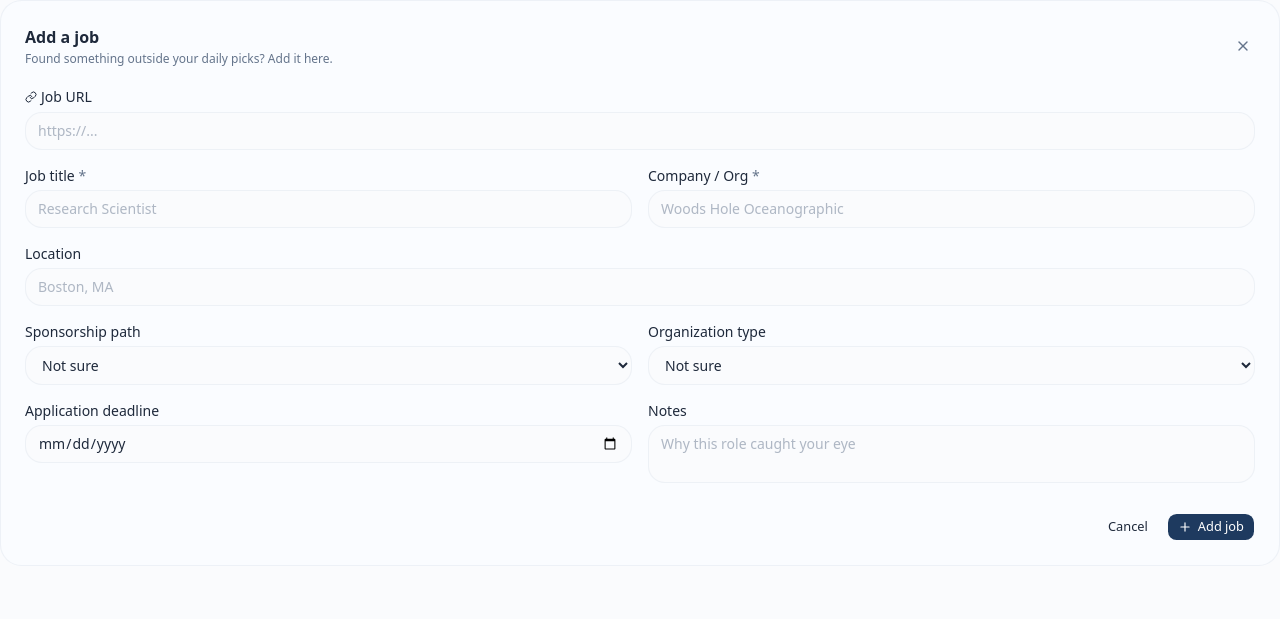
AddJobForm › shows error on server failure
Type "Test" into the field labelled "Job title *" at x=328, y=209, box [25, 190, 632, 228]
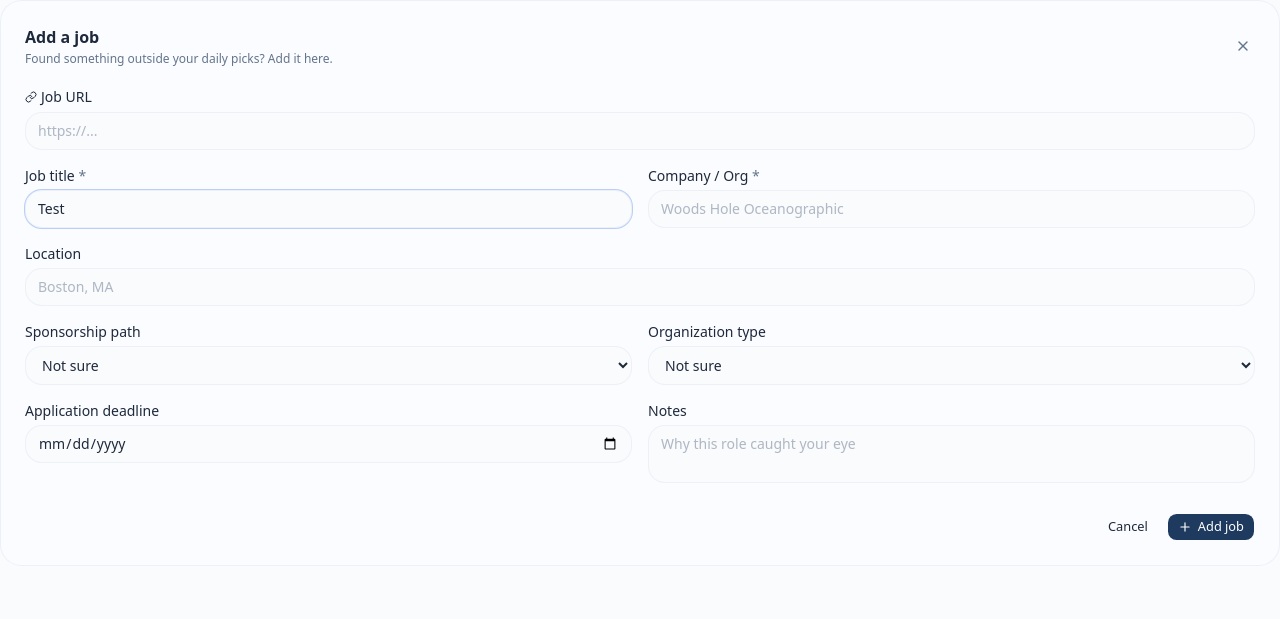
Type "Test Co" into the field labelled "Company / Org *" at x=952, y=209, box [648, 190, 1255, 228]
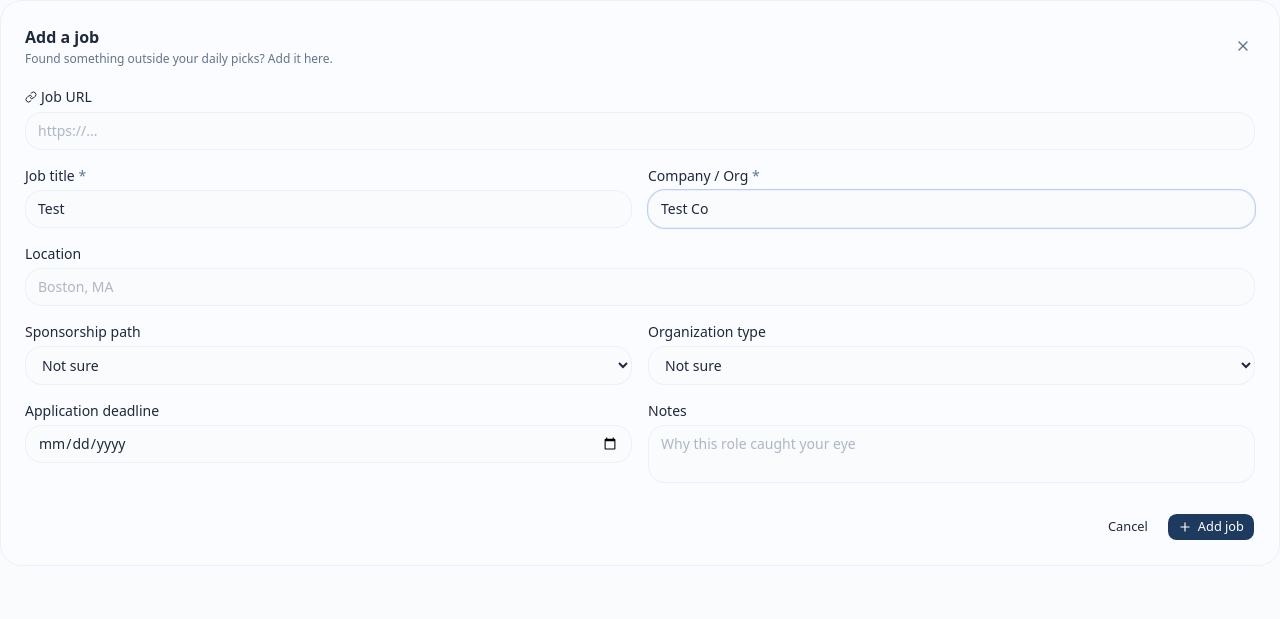
Click the button "Add job" at x=1211, y=527, box [1167, 513, 1255, 541]
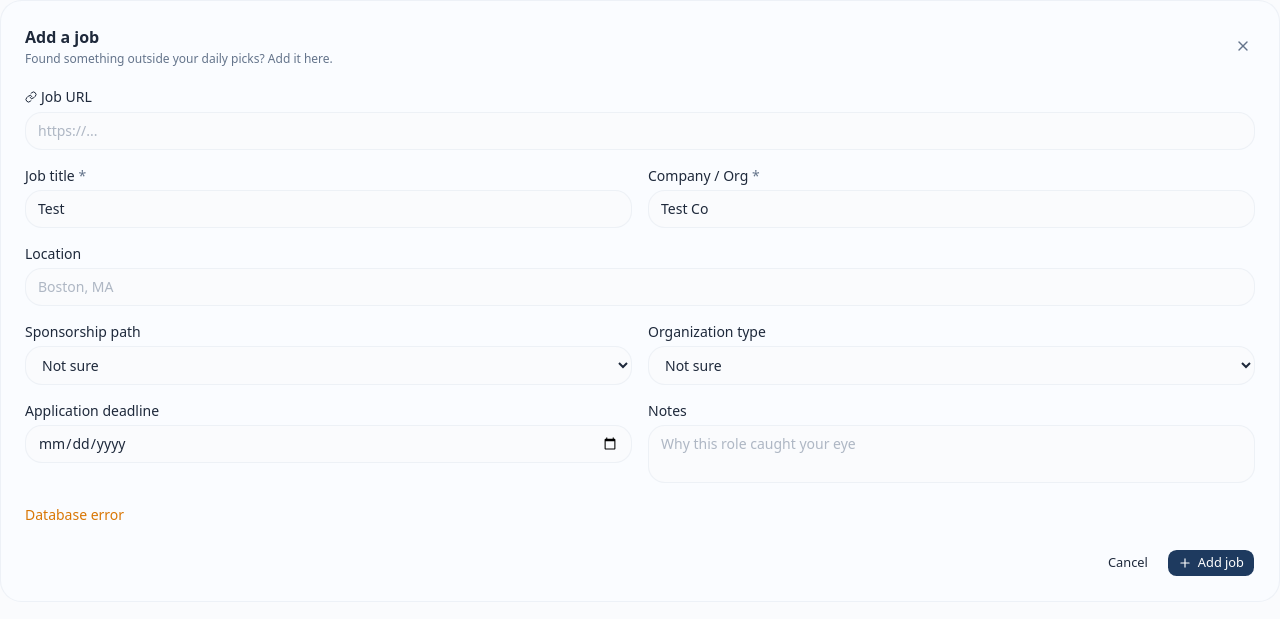
Check: the text "Database error" is shown, box [25, 505, 124, 524]
